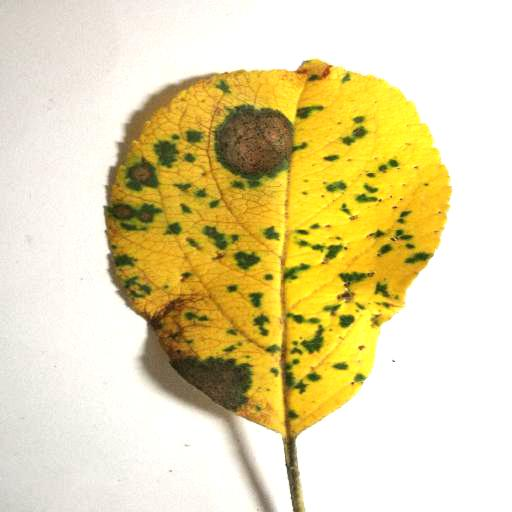Brown_Spot: (210, 105, 293, 175), (175, 355, 245, 412), (148, 290, 202, 334), (112, 199, 160, 220), (123, 161, 150, 180)
